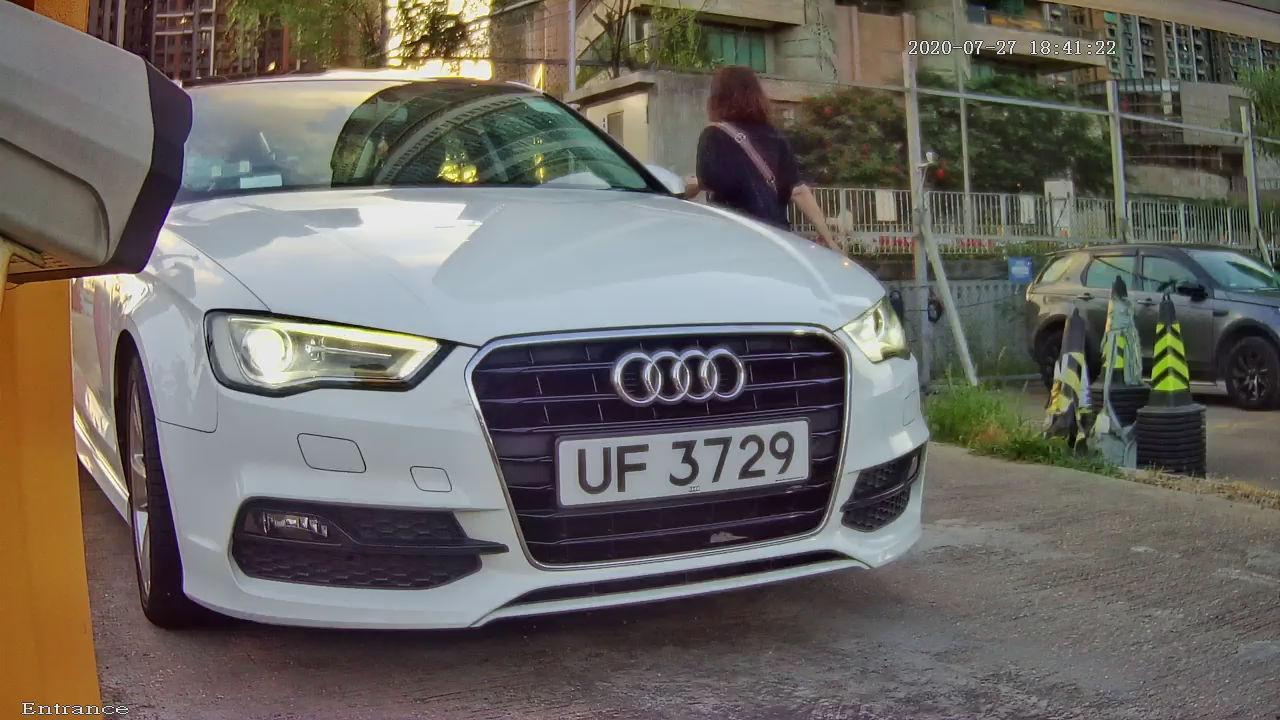privatecar: (69, 29, 1058, 656)
